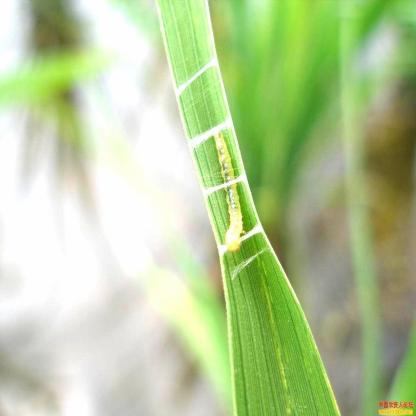leaf-folder: (202, 119, 256, 264)
